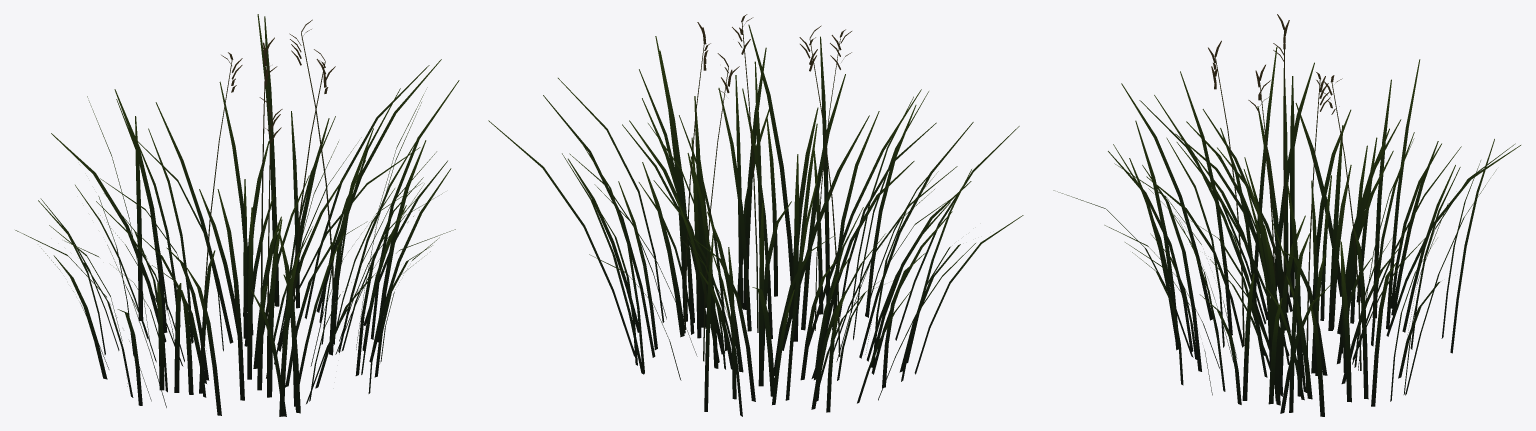
Rendered from SM_Grass_A.fbx.
3 renders of one model, left to right at view 1: azimuth 30°, elevation 25°; view 2: azimuth 150°, elevation 25°; view 3: azimuth 270°, elevation 25°, orthographic.
Visible parts, largest first — view 1: SM_Grass_A; view 2: SM_Grass_A; view 3: SM_Grass_A.
Part boxes in pixels (x1,y1,x2,y2): SM_Grass_A: (15,14,459,416); SM_Grass_A: (488,14,1023,416); SM_Grass_A: (1053,14,1520,416).
Size of the model in its own units: 89.63 by 78.54 by 60.18.
